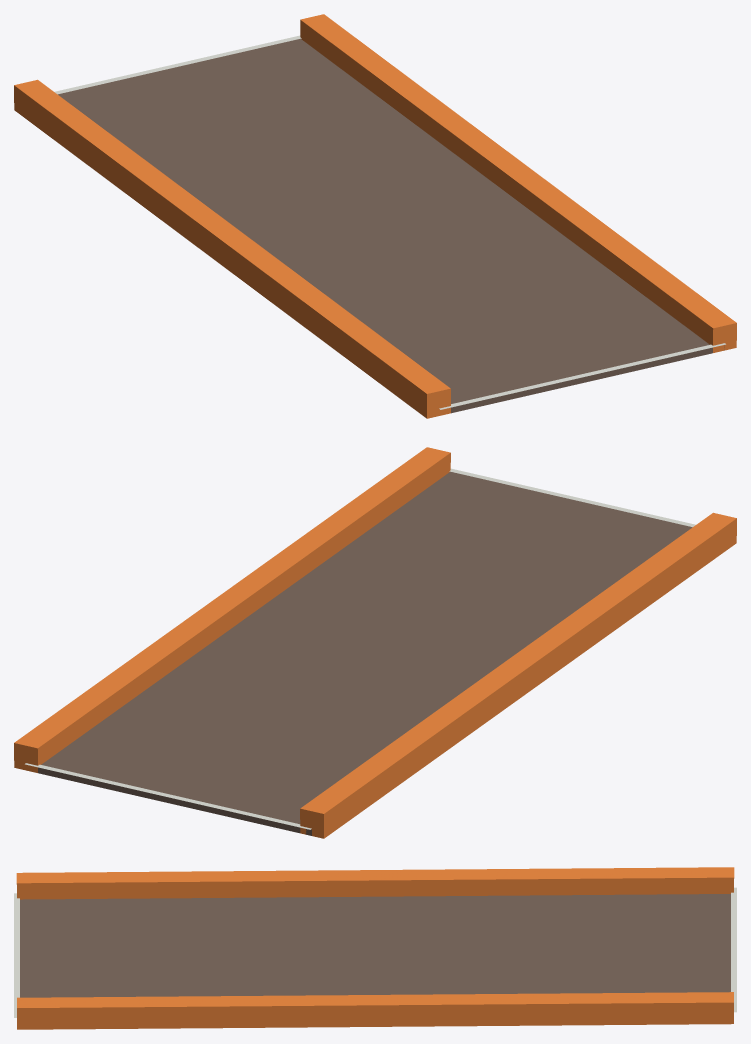
Rendered from SM_MP_Film_A_5_0.fbx.
3 views of the same model, one above another, from view 1: azimuth 30°, elevation 25°; view 2: azimuth 150°, elevation 25°; view 3: azimuth 270°, elevation 25° (orthographic). The views are drawn at different scales.
Visible parts, largest first — view 1: SM_MP_Film_A_5_0; view 2: SM_MP_Film_A_5_0; view 3: SM_MP_Film_A_5_0.
Boxes of the visible parts, box(x1,y1,x2,y2) form: SM_MP_Film_A_5_0: box(14, 14, 736, 418); SM_MP_Film_A_5_0: box(14, 447, 736, 838); SM_MP_Film_A_5_0: box(14, 867, 736, 1029).
Size of what is drawn, in the model's own units: 260 by 605 by 28.86.
